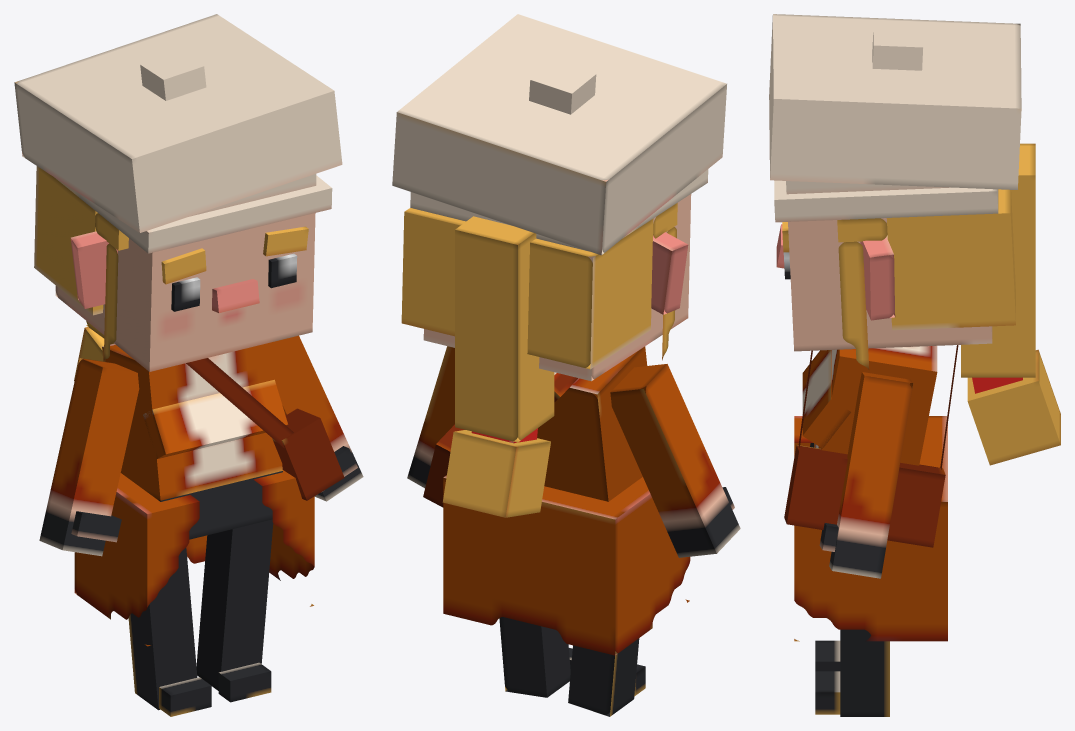
Rendered from poco01temp (9).fbx.
The picture shows the model from 3 angles, left to right: view 1: azimuth 30°, elevation 25°; view 2: azimuth 150°, elevation 25°; view 3: azimuth 270°, elevation 25°; orthographic projection. The views are drawn at different scales.
Parts seen in each view (by area): view 1: Coat.001; view 2: Coat.001; view 3: Coat.001.
Boxes of the visible parts, <box> form: Coat.001: <box>14,14,363,716</box>; Coat.001: <box>392,14,740,716</box>; Coat.001: <box>769,14,1060,716</box>.
Bounding box in the file's own units: 92.32 × 181 × 73.52.
